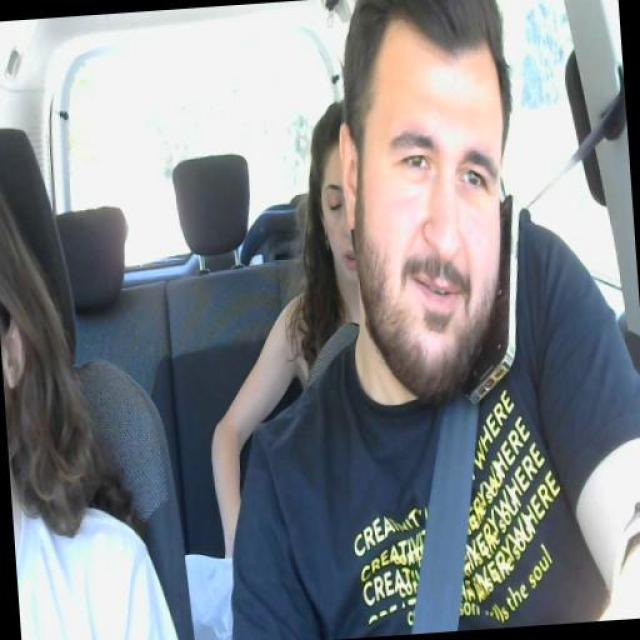phone: (476, 191, 522, 398)
